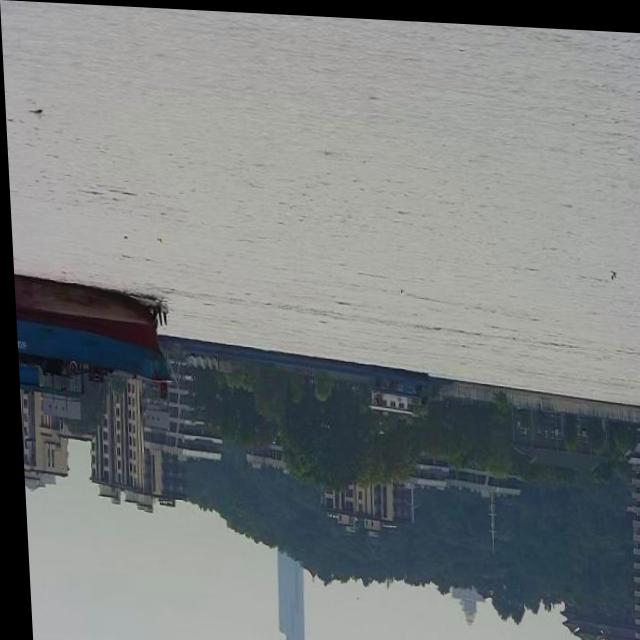ship2: (11, 274, 169, 384)
